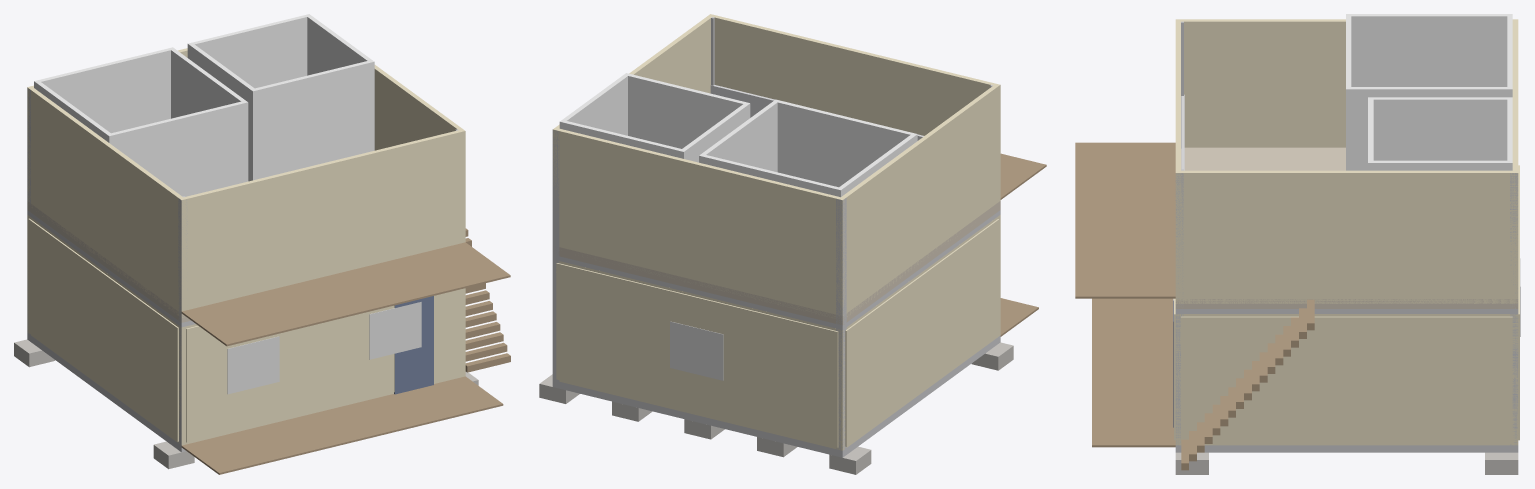
Rendered from Duplex-20-Base-RiceYellow-LOD0.glb.
The picture shows the model from 3 angles, left to right: view 1: azimuth 30°, elevation 25°; view 2: azimuth 150°, elevation 25°; view 3: azimuth 270°, elevation 25°; orthographic projection. The views are drawn at different scales.
Parts seen in each view (by area): view 1: ExteriorShellUpper, ExteriorPanelsStandard, StudyUpper, BedroomUpper, BalconyUpper, BalconyGround, WindowsStandard, StaircaseExternal, ExteriorShell, EntryDoor, FoundationBlocks, FloorUpper (+3 smaller); view 2: ExteriorShellUpper, ExteriorPanelsStandard, BedroomUpper, StudyUpper, FloorUpper, VerticalStructure, FoundationBlocks, BaseFrame, ExteriorShell, WindowsStandard, TopFrame, BalconyUpper (+2 smaller); view 3: ExteriorShellUpper, ExteriorPanelsStandard, BalconyUpper, BedroomUpper, BalconyGround, StudyUpper, FloorUpper, StaircaseExternal, ExteriorShell, BaseFrame, VerticalStructure, TopFrame (+1 smaller).
Part boxes in pixels (x1=…): ExteriorShellUpper: x1=27, y1=48, x2=465, y2=317; ExteriorPanelsStandard: x1=28, y1=218, x2=461, y2=442; StudyUpper: x1=187, y1=14, x2=374, y2=181; BedroomUpper: x1=34, y1=47, x2=248, y2=196; BalconyUpper: x1=181, y1=242, x2=510, y2=346; BalconyGround: x1=181, y1=376, x2=503, y2=474; WindowsStandard: x1=227, y1=302, x2=421, y2=394; StaircaseExternal: x1=465, y1=228, x2=510, y2=372; ExteriorShell: x1=27, y1=215, x2=465, y2=445; EntryDoor: x1=394, y1=296, x2=433, y2=394; FoundationBlocks: x1=14, y1=339, x2=478, y2=469; FloorUpper: x1=27, y1=201, x2=190, y2=322; ExteriorShellUpper: x1=552, y1=14, x2=1000, y2=318; ExteriorPanelsStandard: x1=556, y1=219, x2=999, y2=447; BedroomUpper: x1=699, y1=99, x2=917, y2=197; StudyUpper: x1=559, y1=73, x2=750, y2=162; FloorUpper: x1=558, y1=201, x2=1000, y2=325; VerticalStructure: x1=552, y1=17, x2=998, y2=449; FoundationBlocks: x1=539, y1=342, x2=1013, y2=474; BaseFrame: x1=552, y1=335, x2=1000, y2=457; ExteriorShell: x1=556, y1=215, x2=1000, y2=450; WindowsStandard: x1=670, y1=321, x2=723, y2=380; TopFrame: x1=555, y1=210, x2=1000, y2=329; BalconyUpper: x1=1000, y1=153, x2=1046, y2=199; ExteriorShellUpper: x1=1175, y1=19, x2=1518, y2=303; ExteriorPanelsStandard: x1=1174, y1=165, x2=1519, y2=443; BalconyUpper: x1=1075, y1=142, x2=1175, y2=298; BedroomUpper: x1=1346, y1=14, x2=1512, y2=170; BalconyGround: x1=1092, y1=298, x2=1175, y2=447; StudyUpper: x1=1368, y1=97, x2=1512, y2=170; FloorUpper: x1=1175, y1=147, x2=1518, y2=308; StaircaseExternal: x1=1181, y1=299, x2=1314, y2=470; ExteriorShell: x1=1175, y1=314, x2=1518, y2=445; BaseFrame: x1=1175, y1=445, x2=1518, y2=452; VerticalStructure: x1=1175, y1=21, x2=1518, y2=445; TopFrame: x1=1175, y1=309, x2=1518, y2=313.
Bounding box in the file's own units: 7.94 × 6 × 8.
